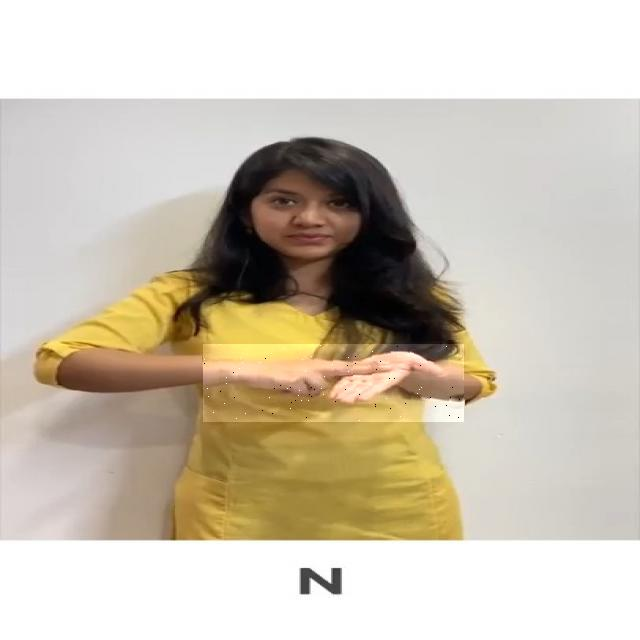N: (203, 344, 464, 422)
